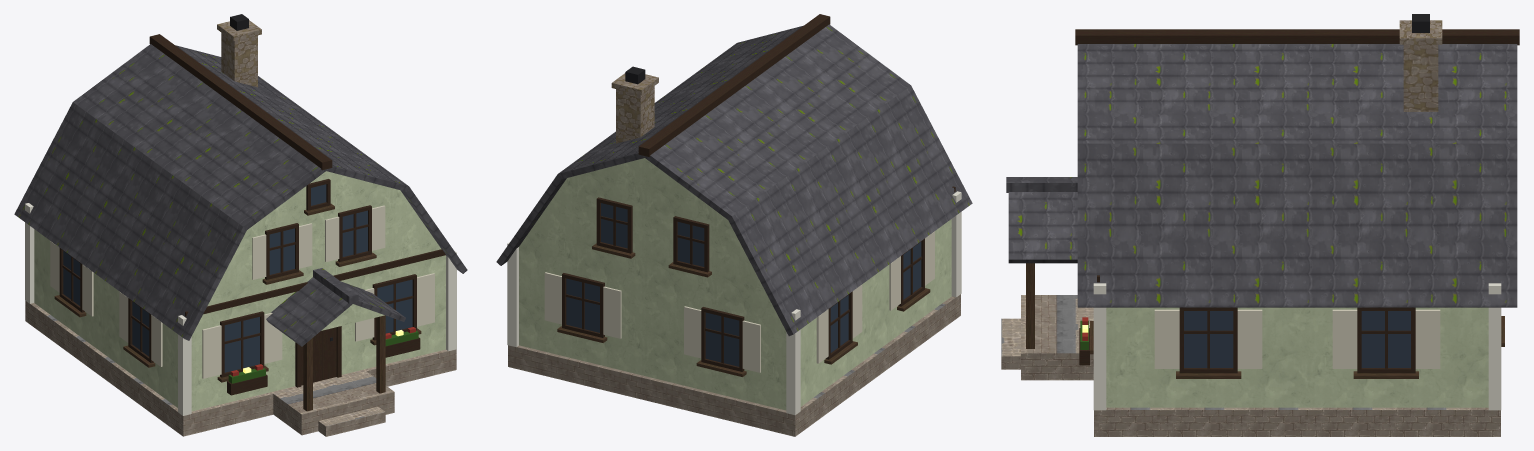
Rendered from gambrel_house.glb.
The picture shows the model from 3 angles, left to right: view 1: azimuth 30°, elevation 25°; view 2: azimuth 150°, elevation 25°; view 3: azimuth 270°, elevation 25°; orthographic projection. The views are drawn at different scales.
Visible parts, largest first — view 1: gambrel_house; view 2: gambrel_house; view 3: gambrel_house.
Part boxes in pixels (x1,y1,x2,y2): gambrel_house: (14, 14, 467, 436); gambrel_house: (496, 14, 972, 436); gambrel_house: (1001, 14, 1519, 436).
Bounding box in the file's own units: 8.53 × 8.1 × 10.5.
Materials: 12 (5 with a texture image).
